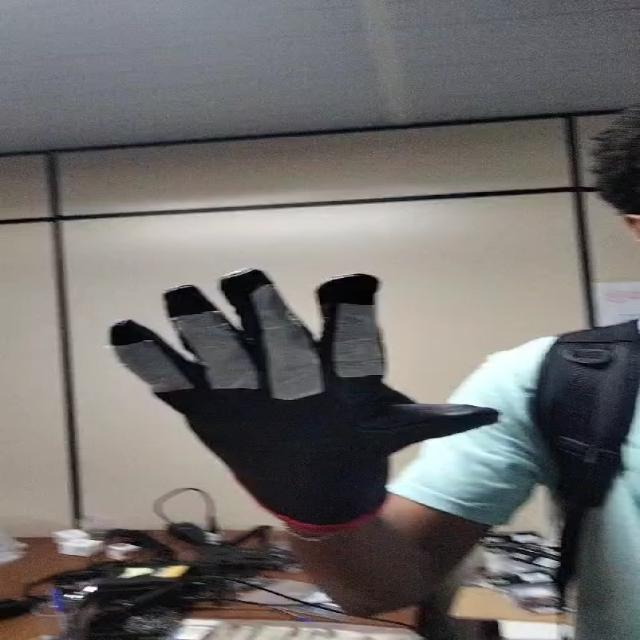Gloves: (104, 269, 492, 512)
